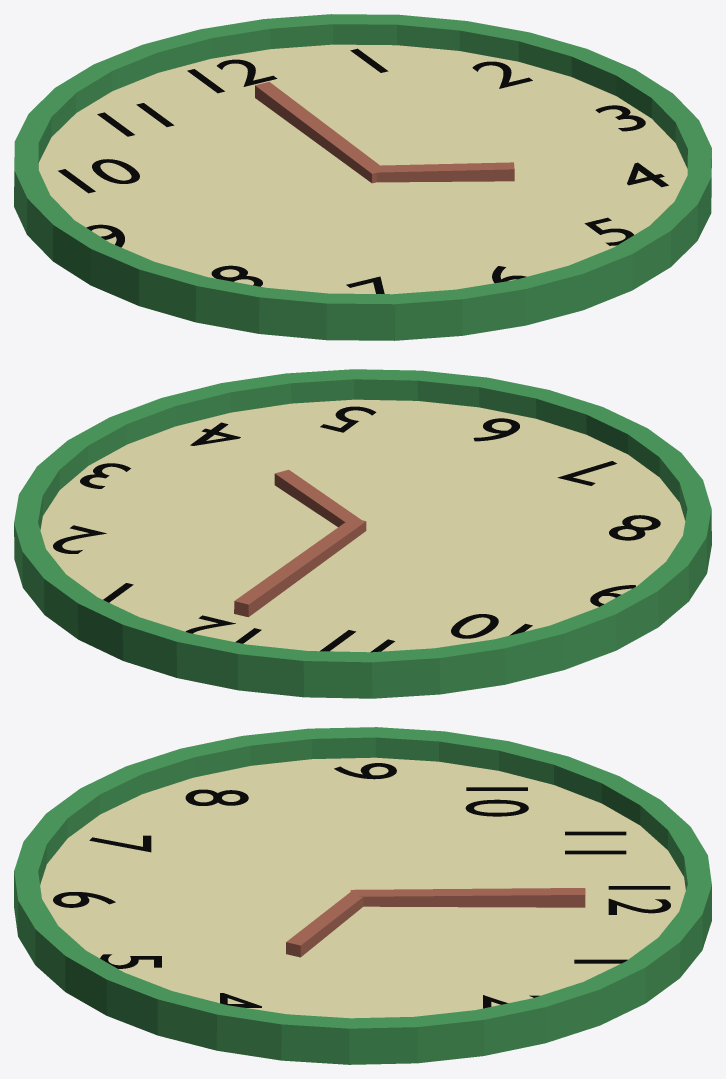
The model's file is jam dinding 4.fbx.
3 views of the same model, one above another, from view 1: azimuth 30°, elevation 25°; view 2: azimuth 150°, elevation 25°; view 3: azimuth 270°, elevation 25° (orthographic).
Visible parts, largest first — view 1: Circle, Circle.001, Text, Cube.001, Cube.002; view 2: Circle, Circle.001, Text, Cube.001, Cube.002; view 3: Circle, Circle.001, Text, Cube.001, Cube.002.
Boxes of the visible parts, x1,y1,x2,y2 form: Circle: [38, 44, 687, 294]; Circle.001: [14, 14, 711, 340]; Text: [58, 48, 668, 293]; Cube.001: [255, 81, 382, 183]; Cube.002: [371, 162, 514, 182]; Circle: [40, 399, 685, 652]; Circle.001: [14, 369, 711, 698]; Text: [53, 406, 660, 652]; Cube.001: [234, 520, 366, 617]; Cube.002: [274, 469, 364, 527]; Circle: [40, 757, 685, 1018]; Circle.001: [14, 727, 711, 1064]; Text: [53, 763, 670, 1008]; Cube.001: [350, 888, 585, 907]; Cube.002: [286, 890, 363, 957].
Bounding box in the file's own units: 430 × 29.52 × 430.
